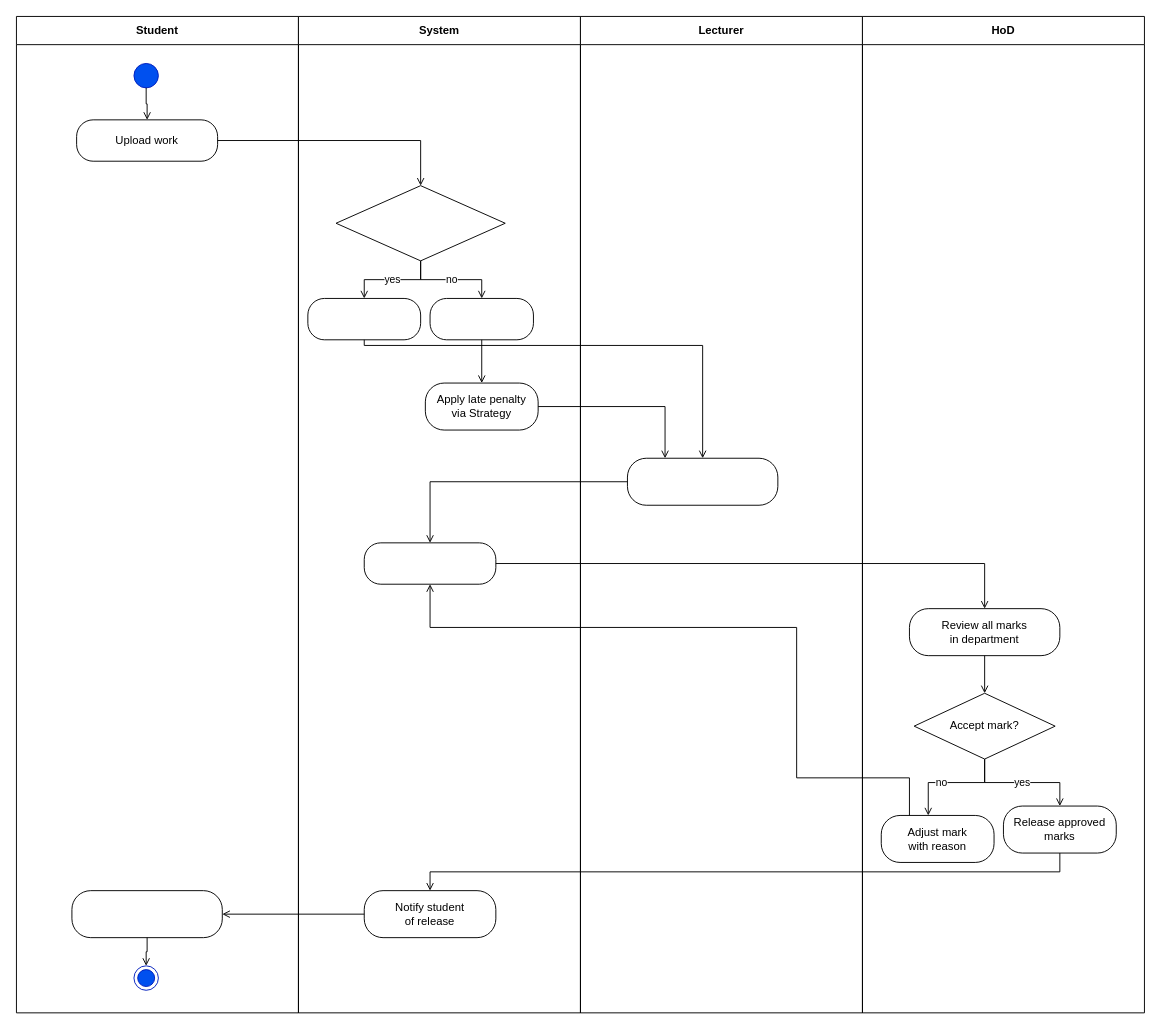
This 1161x1029 diagram has some shape labels left out. The centre of each missing label's shape, as x and y in pixels:
"Enter mark and written feedback" goes at point 702,481.
"On or before effective deadline?" goes at point 420,223.
"State = Late" goes at point 481,319.
"State = Submitted" goes at point 364,319.
"View released mark and feedback" goes at point 146,914.
"Write audit record" goes at point 429,563.
